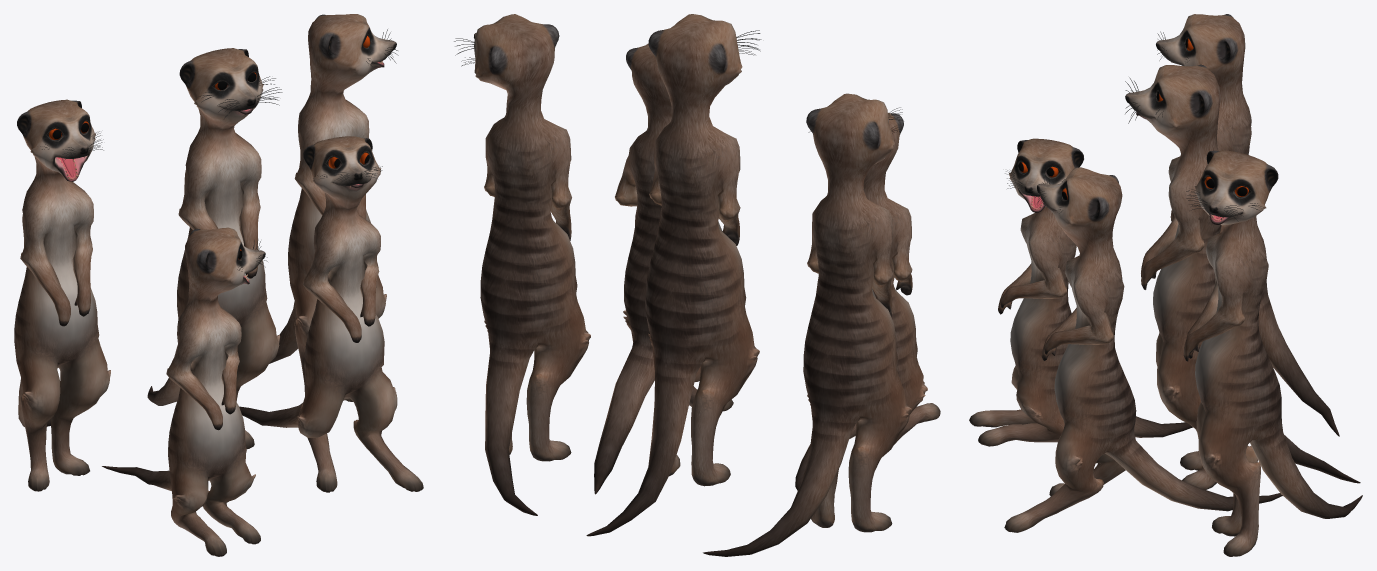
3 views of the same model, side by side, from view 1: azimuth 30°, elevation 25°; view 2: azimuth 150°, elevation 25°; view 3: azimuth 270°, elevation 25° (orthographic). The views are drawn at different scales.
Visible parts, largest first — view 1: Meerkat_body_low (×5); view 2: Meerkat_body_low (×5); view 3: Meerkat_body_low (×5).
Boxes of the visible parts, box(x1,y1,x2,y2) form: Meerkat_body_low (×5): box(14, 14, 423, 556); Meerkat_body_low (×5): box(474, 14, 940, 556); Meerkat_body_low (×5): box(969, 14, 1362, 556).
Bounding box in the file's own units: 9.45 × 9.3 × 8.14.
1 material, 1 textured.
